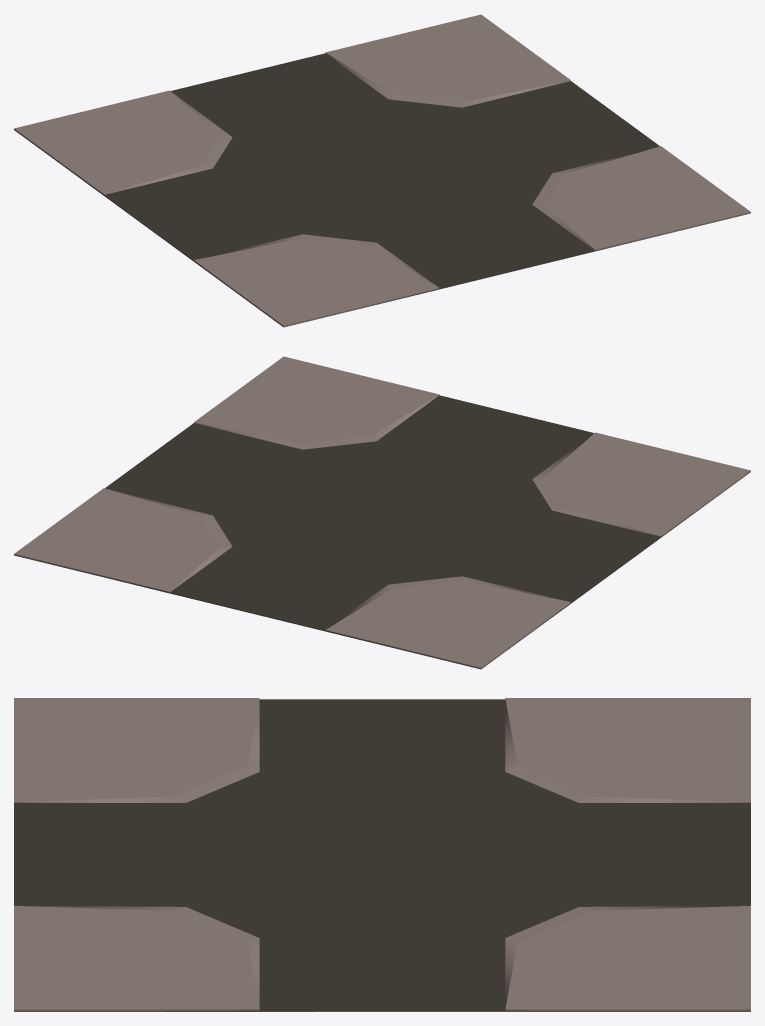
File: Env_3lane_Cross_col.fbx
3 renders of one model, top to bottom at view 1: azimuth 30°, elevation 25°; view 2: azimuth 150°, elevation 25°; view 3: azimuth 270°, elevation 25°, orthographic. The views are drawn at different scales.
Visible parts, largest first — view 1: Env_3lane_Cross_col; view 2: Env_3lane_Cross_col; view 3: Env_3lane_Cross_col.
Part boxes in pixels (x1,y1,x2,y2): Env_3lane_Cross_col: [14, 14, 750, 327]; Env_3lane_Cross_col: [14, 356, 750, 669]; Env_3lane_Cross_col: [14, 698, 750, 1011].
Bounding box in the file's own units: 6000 × 20 × 6000.
